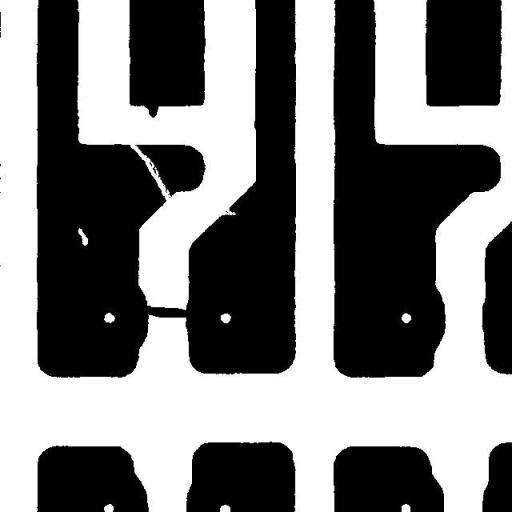mousebite: (210, 200, 244, 222)
open: (122, 136, 184, 214)
pin-hole: (70, 220, 96, 253)
short: (132, 294, 198, 325)
spur: (135, 92, 166, 125)
